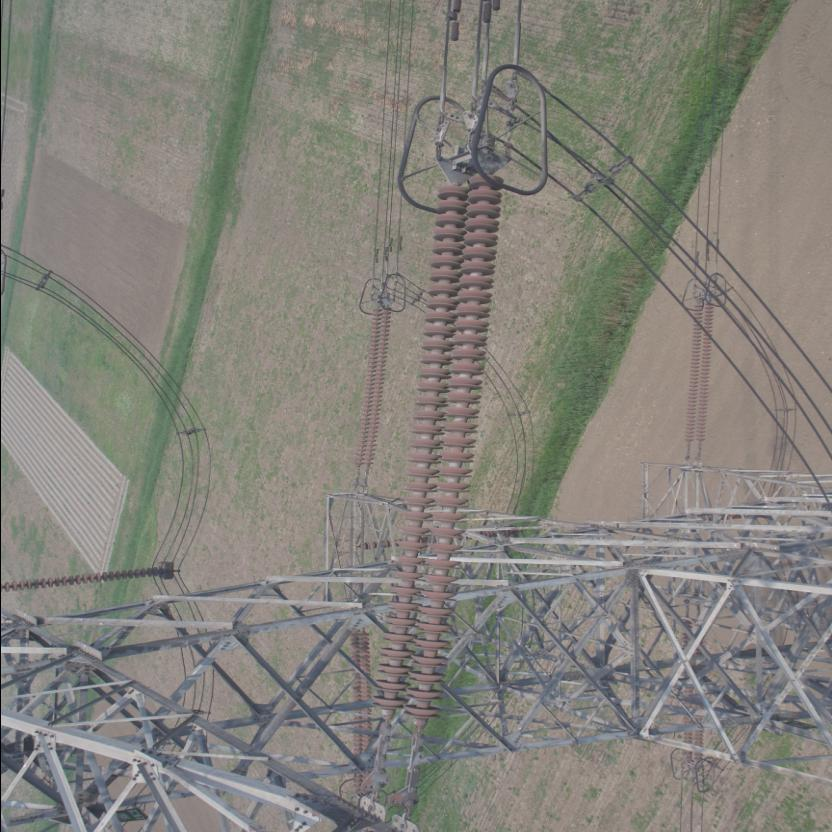insulator: (366, 162, 504, 760), (680, 300, 712, 454)
